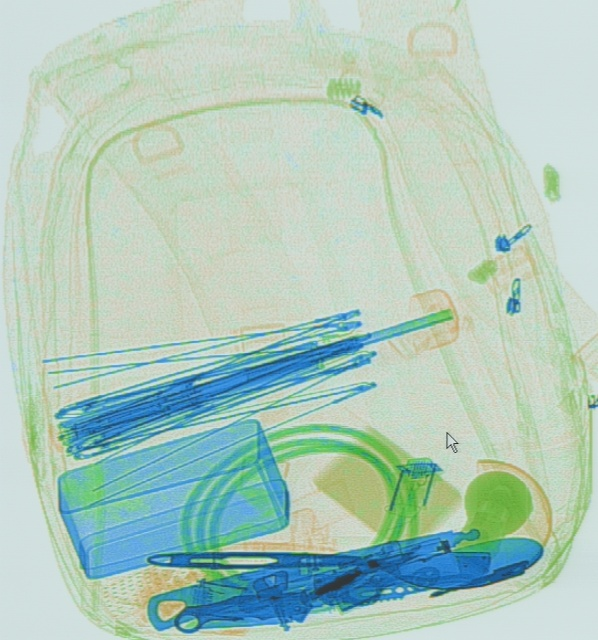knife: (312, 548, 493, 614), (172, 586, 310, 634)
